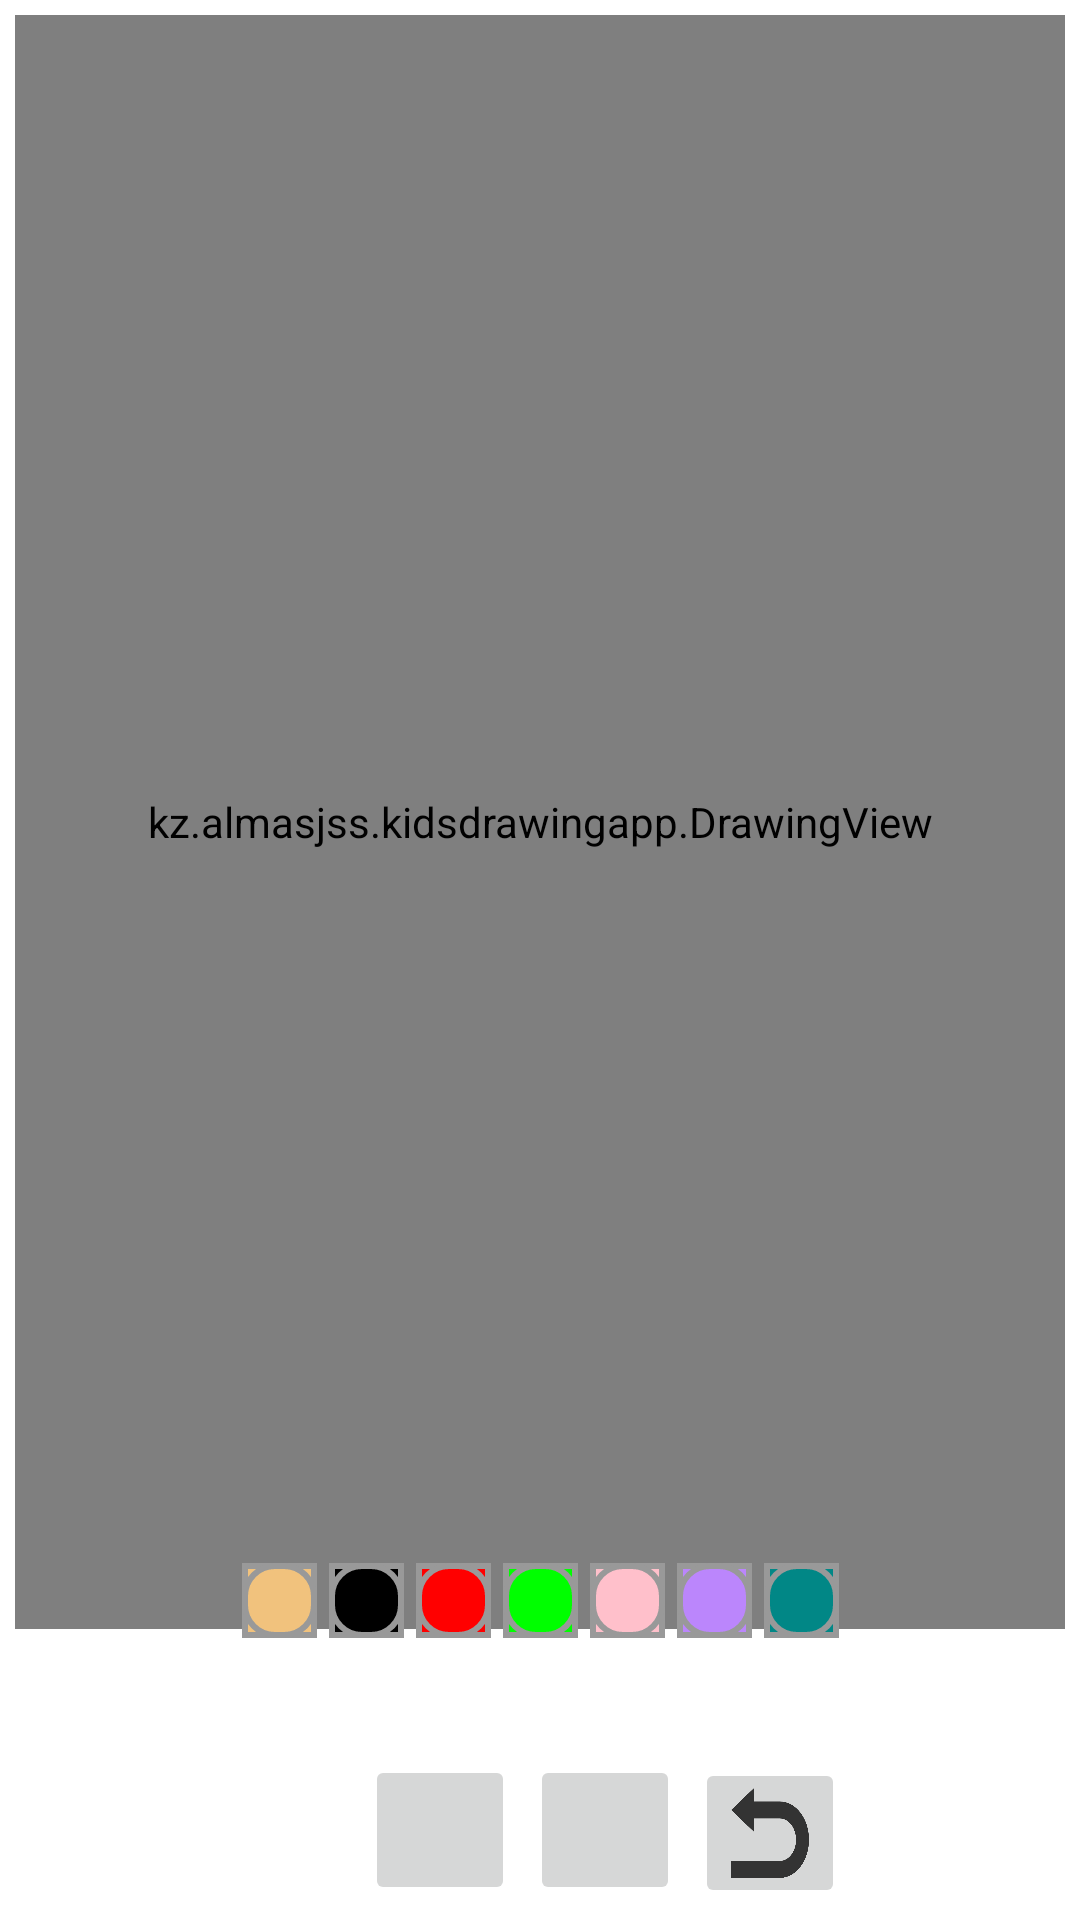

Named icons in this screenshot (1080*1920) and their centers, (x=x, y=y):
undo: (x=770, y=1833)
